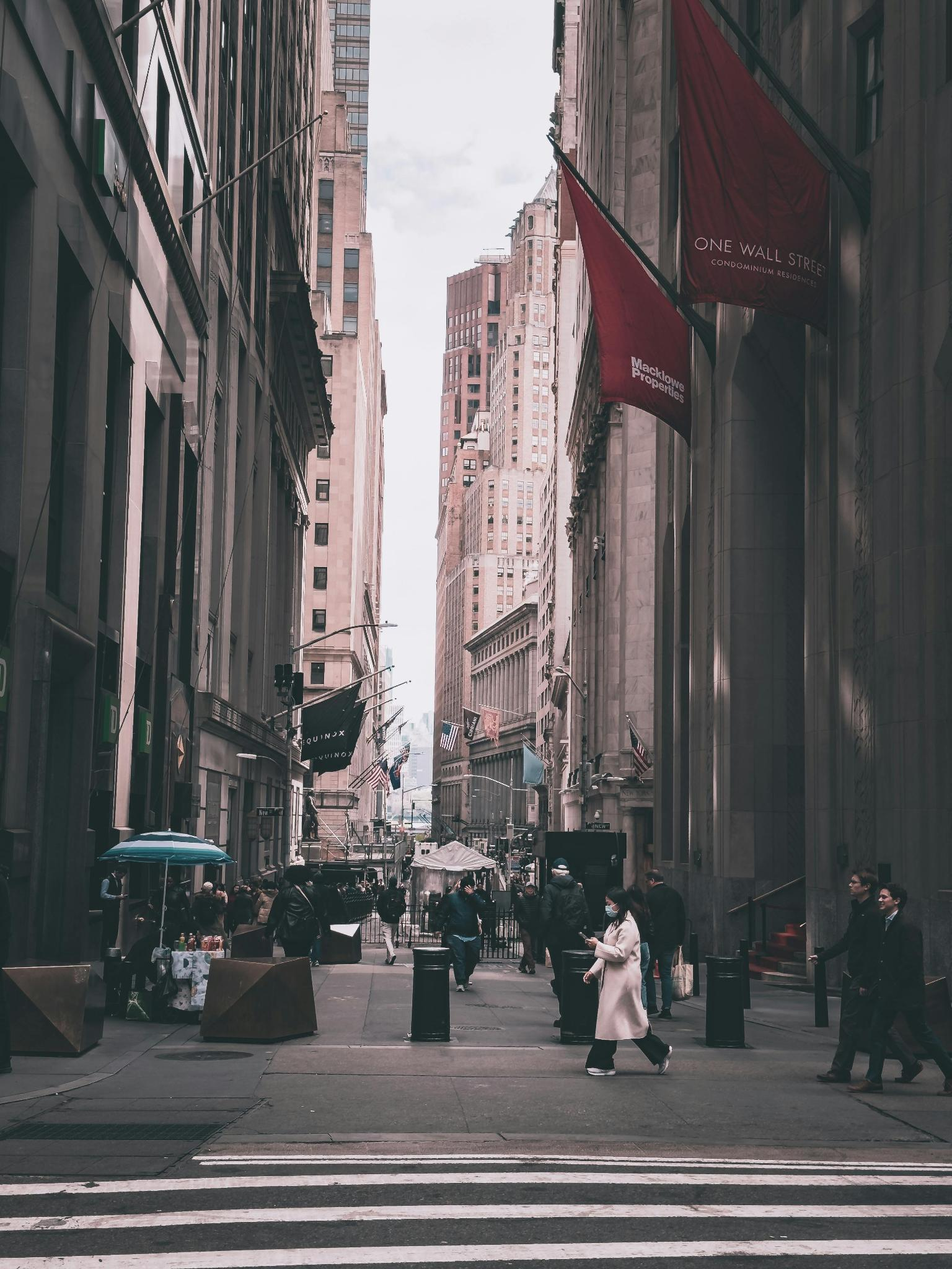pedestrian: (873, 886, 952, 1093), (582, 893, 673, 1072), (815, 871, 885, 1088), (641, 875, 680, 1017), (441, 872, 485, 992), (515, 882, 545, 975), (548, 860, 579, 948), (378, 875, 404, 960)
